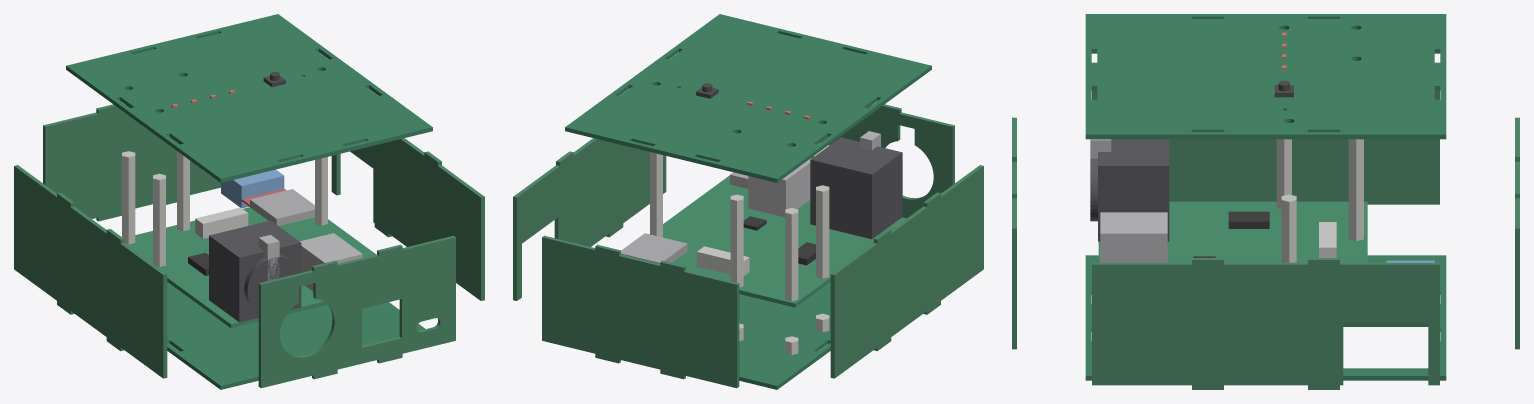
File: case_exploded.glb
The picture shows the model from 3 angles, left to right: view 1: azimuth 30°, elevation 25°; view 2: azimuth 150°, elevation 25°; view 3: azimuth 270°, elevation 25°; orthographic projection. The views are drawn at different scales.
Parts seen in each view (by area): view 1: top_0, front_0, left_0, right_0, back_0, bottom_0, main_0, main_8, main_1, main_7, main_11, main_9 (+6 smaller); view 2: top_0, back_0, left_0, right_0, main_0, main_8, bottom_0, front_0, main_7, main_1, spacers_high_1, spacers_high_2 (+3 smaller); view 3: top_0, right_0, left_0, main_0, main_8, bottom_0, main_7, spacers_high_3, front_0, back_0, spacers_high_0, spacers_high_1 (+3 smaller).
Boxes of the visible parts, bbox=[...] form: top_0: bbox=[66, 14, 432, 182]; front_0: bbox=[258, 235, 455, 388]; left_0: bbox=[14, 165, 167, 378]; right_0: bbox=[331, 138, 484, 300]; back_0: bbox=[43, 104, 220, 221]; bottom_0: bbox=[167, 282, 424, 389]; main_0: bbox=[126, 207, 375, 327]; main_8: bbox=[209, 220, 301, 322]; main_1: bbox=[250, 189, 314, 225]; main_7: bbox=[300, 233, 362, 291]; main_11: bbox=[221, 169, 284, 208]; main_9: bbox=[244, 255, 298, 310]; top_0: bbox=[565, 14, 931, 182]; back_0: bbox=[542, 235, 739, 388]; left_0: bbox=[830, 165, 983, 378]; right_0: bbox=[513, 138, 666, 300]; main_0: bbox=[649, 175, 906, 307]; main_8: bbox=[810, 137, 902, 239]; bottom_0: bbox=[739, 282, 830, 389]; front_0: bbox=[811, 104, 954, 218]; main_7: bbox=[748, 158, 811, 217]; main_1: bbox=[621, 233, 687, 263]; spacers_high_1: bbox=[816, 185, 829, 278]; spacers_high_2: bbox=[785, 208, 798, 301]; top_0: bbox=[1085, 14, 1446, 139]; right_0: bbox=[1092, 258, 1439, 389]; left_0: bbox=[1092, 90, 1439, 204]; main_0: bbox=[1098, 201, 1367, 262]; main_8: bbox=[1098, 139, 1169, 241]; bottom_0: bbox=[1085, 255, 1446, 380]; main_7: bbox=[1100, 212, 1167, 262]; spacers_high_3: bbox=[1348, 139, 1363, 240]; front_0: bbox=[1012, 117, 1016, 349]; back_0: bbox=[1515, 117, 1519, 349]; spacers_high_0: bbox=[1281, 194, 1296, 262]; spacers_high_1: bbox=[1276, 139, 1291, 209].
Bounding box in the file's own units: 135 × 88.3 × 159.
